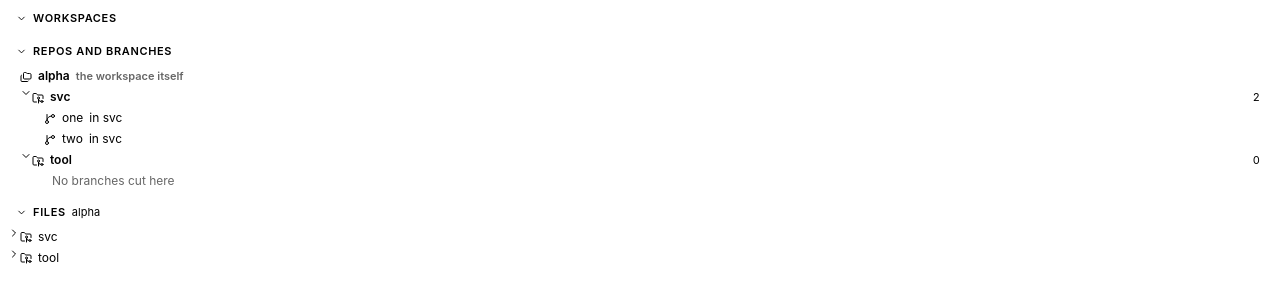
Test: the explorer is a WAI-ARIA tree › says on every parent whether it is open, and nothing on a leaf
Click the list item "svc 2" at (26, 93), box [8, 87, 1272, 108]
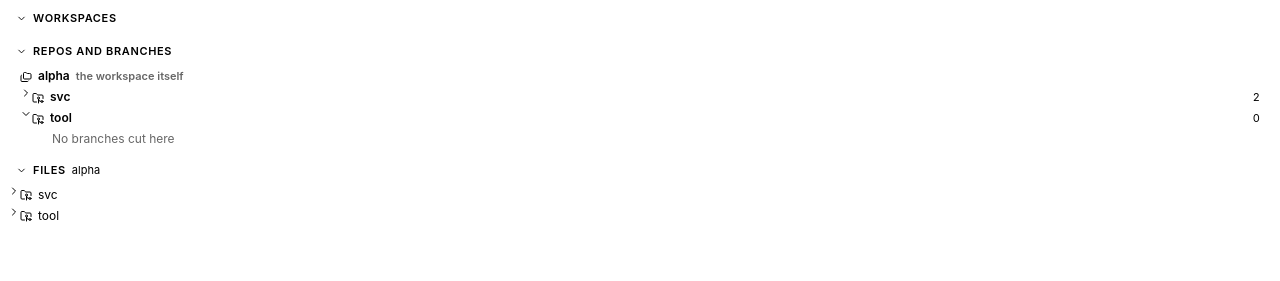
Expected: the list item "svc 2" is collapsed, [8, 87, 1272, 108]
